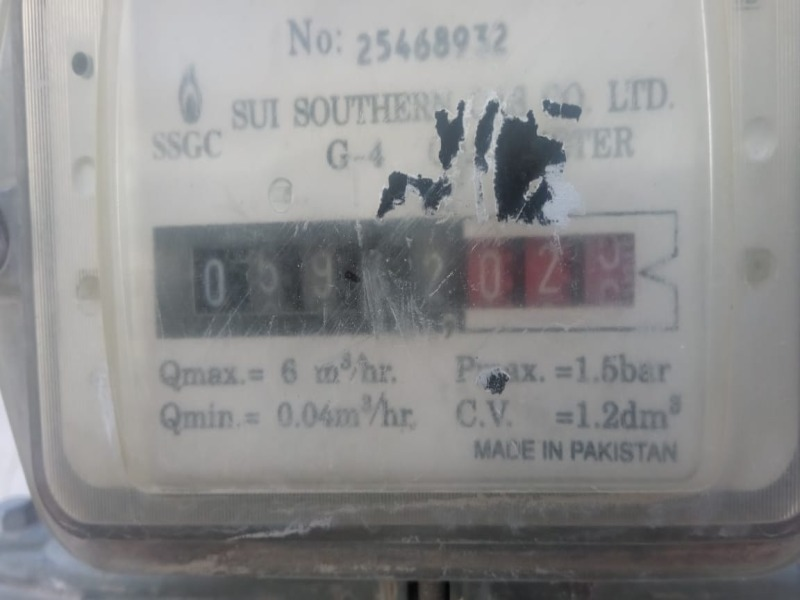ssgc: (169, 228, 658, 322)
